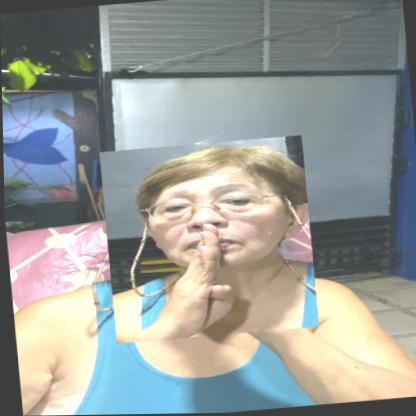Talk: (98, 136, 318, 344)
